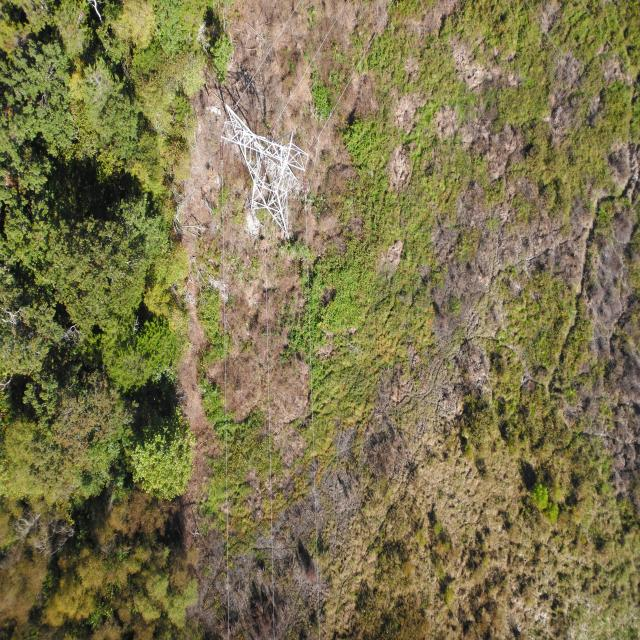Area of Interest: (5, 10, 234, 509)
